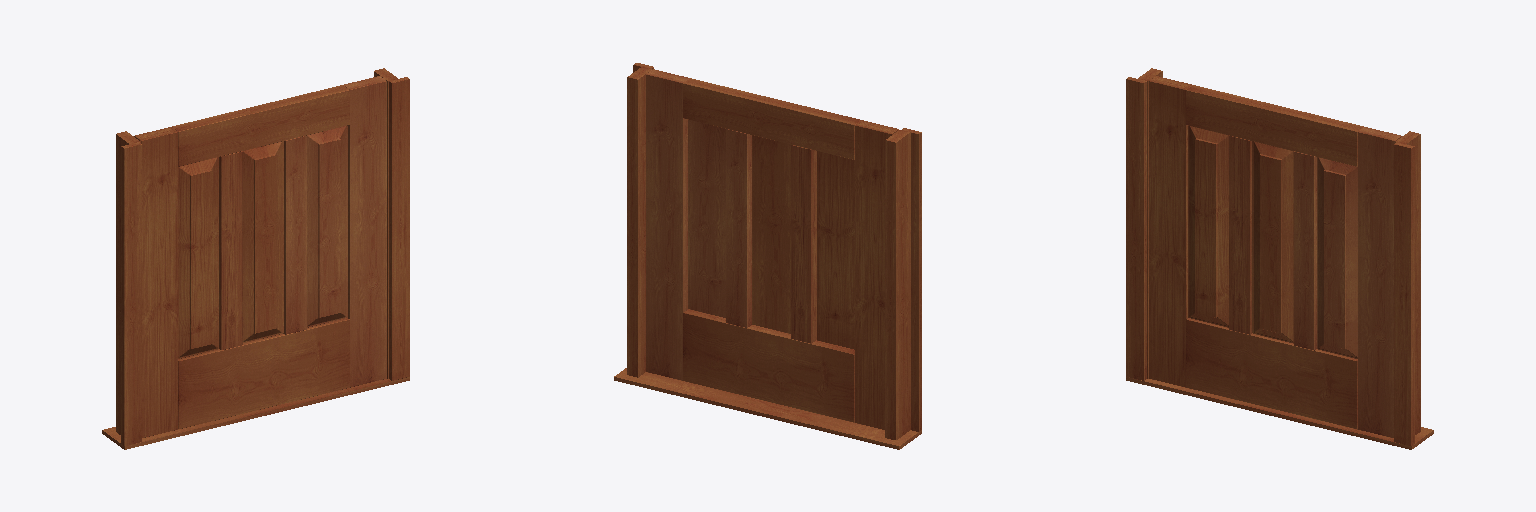
3 renders of one model, left to right at view 1: azimuth 30°, elevation 25°; view 2: azimuth 150°, elevation 25°; view 3: azimuth 330°, elevation 25°, orthographic.
Visible parts, largest first — view 1: door_bottom, door_right, door_left, panel_extruded001, panel_extruded002, panel_extruded003, door_middle, trim_right, trim_left, panel001, panel002, threshold (+2 smaller); view 2: door_bottom, door_right, door_left, box_left, panel_extruded002, panel_extruded001, panel_extruded003, door_middle, box_right, panel002, panel001, threshold (+1 smaller); view 3: door_bottom, door_left, door_right, panel_extruded002, panel_extruded001, panel_extruded003, door_middle, trim_left, trim_right, panel001, panel002, threshold (+2 smaller).
Boxes of the visible parts, x1=… form: door_bottom: x1=178, y1=318, x2=349, y2=428; door_right: x1=344, y1=76, x2=386, y2=387; door_left: x1=134, y1=127, x2=177, y2=437; panel_extruded001: x1=178, y1=157, x2=218, y2=358; panel_extruded002: x1=243, y1=141, x2=283, y2=342; panel_extruded003: x1=307, y1=126, x2=347, y2=327; door_middle: x1=172, y1=85, x2=349, y2=166; trim_right: x1=389, y1=77, x2=409, y2=380; trim_left: x1=121, y1=142, x2=141, y2=445; panel001: x1=219, y1=151, x2=242, y2=349; panel002: x1=284, y1=136, x2=306, y2=334; threshold: x1=102, y1=377, x2=409, y2=449; door_bottom: x1=683, y1=309, x2=854, y2=422; door_right: x1=646, y1=69, x2=689, y2=380; door_left: x1=855, y1=120, x2=898, y2=429; box_left: x1=885, y1=130, x2=910, y2=439; panel_extruded002: x1=752, y1=135, x2=790, y2=333; panel_extruded001: x1=817, y1=151, x2=854, y2=349; panel_extruded003: x1=688, y1=120, x2=725, y2=317; door_middle: x1=683, y1=78, x2=860, y2=159; box_right: x1=627, y1=67, x2=652, y2=377; panel002: x1=726, y1=129, x2=751, y2=327; panel001: x1=791, y1=145, x2=816, y2=343; threshold: x1=614, y1=368, x2=921, y2=449; door_bottom: x1=1186, y1=318, x2=1357, y2=429; door_left: x1=1149, y1=76, x2=1192, y2=387; door_right: x1=1358, y1=127, x2=1401, y2=437; panel_extruded002: x1=1252, y1=141, x2=1293, y2=343; panel_extruded001: x1=1188, y1=126, x2=1228, y2=327; panel_extruded003: x1=1317, y1=157, x2=1357, y2=358; door_middle: x1=1186, y1=85, x2=1363, y2=166; trim_left: x1=1126, y1=77, x2=1146, y2=380; trim_right: x1=1394, y1=142, x2=1414, y2=445; panel001: x1=1229, y1=136, x2=1251, y2=334; panel002: x1=1294, y1=151, x2=1316, y2=350; threshold: x1=1126, y1=377, x2=1433, y2=449.
Bounding box in the file's own units: 40.37 × 40.83 × 5.5.
Materials: 7 (7 with a texture image).